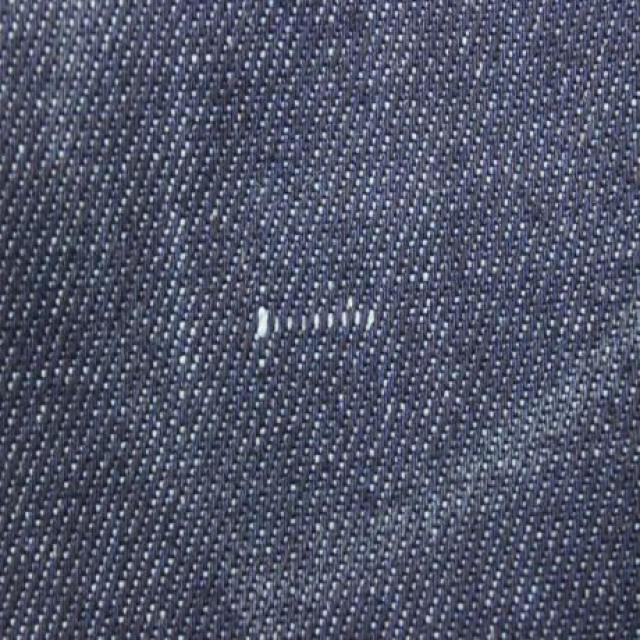Thread_other: (156, 218, 453, 470)
